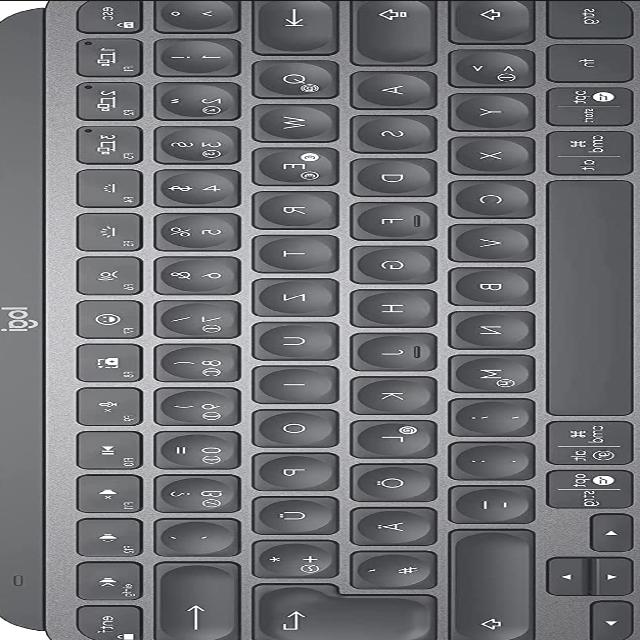0: (148, 428, 236, 468)
1: (146, 35, 233, 73)
2: (147, 79, 235, 119)
3: (148, 123, 236, 163)
4: (148, 167, 235, 205)
5: (147, 210, 235, 250)
6: (148, 254, 235, 294)
7: (148, 298, 236, 338)
8: (148, 342, 236, 382)
9: (148, 385, 236, 425)
a: (343, 69, 431, 107)
accent: (146, 516, 232, 554)
ae: (343, 504, 431, 544)
alt-left: (541, 83, 632, 125)
altgr-right: (540, 416, 631, 464)
b: (442, 265, 530, 305)
c: (442, 177, 531, 217)
caret: (147, 0, 233, 30)
comma: (442, 395, 530, 435)
d: (344, 156, 432, 196)
del: (148, 560, 235, 640)
e: (246, 144, 337, 185)
enter: (246, 582, 432, 640)
f: (344, 200, 432, 238)
g: (344, 243, 432, 282)
h: (343, 286, 431, 326)
hash: (342, 549, 432, 587)
i: (245, 363, 332, 402)
j: (344, 331, 433, 369)
k: (343, 374, 432, 412)
keyboard: (32, 0, 640, 640)
l: (344, 417, 432, 456)
less: (441, 46, 530, 86)
m: (442, 351, 531, 391)
minus: (442, 483, 529, 522)
n: (442, 308, 530, 348)
o: (245, 406, 334, 445)
oe: (344, 461, 432, 500)
p: (245, 450, 332, 489)
plus: (245, 537, 335, 577)
point: (442, 439, 529, 479)
q: (245, 57, 336, 97)
r: (246, 188, 334, 228)
s: (345, 112, 431, 151)
shift-left: (442, 0, 528, 41)
shift-lock: (345, 0, 431, 62)
shift-right: (441, 525, 530, 640)
space: (539, 176, 631, 416)
ss: (148, 472, 236, 512)
strg-left: (539, 0, 630, 37)
strg-right: (540, 465, 632, 508)
t: (245, 232, 332, 270)
tab: (245, 0, 333, 52)
u: (245, 319, 335, 359)
ue: (245, 493, 333, 532)
v: (441, 221, 529, 261)
w: (244, 101, 332, 140)
x: (442, 135, 528, 173)
y: (442, 91, 528, 129)
z: (245, 275, 334, 315)
